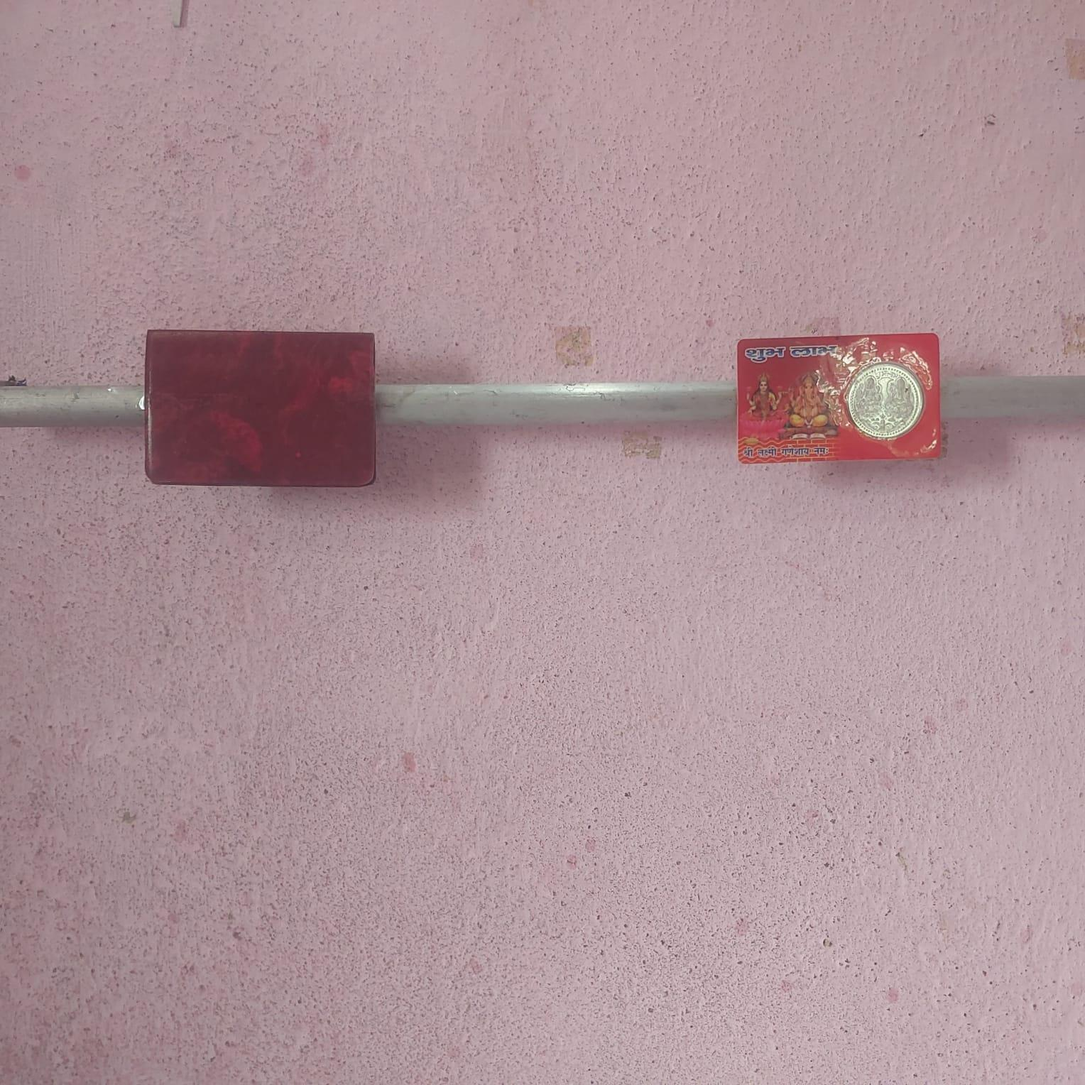blessing_card: (733, 329, 949, 467)
wallet: (141, 327, 383, 493)
